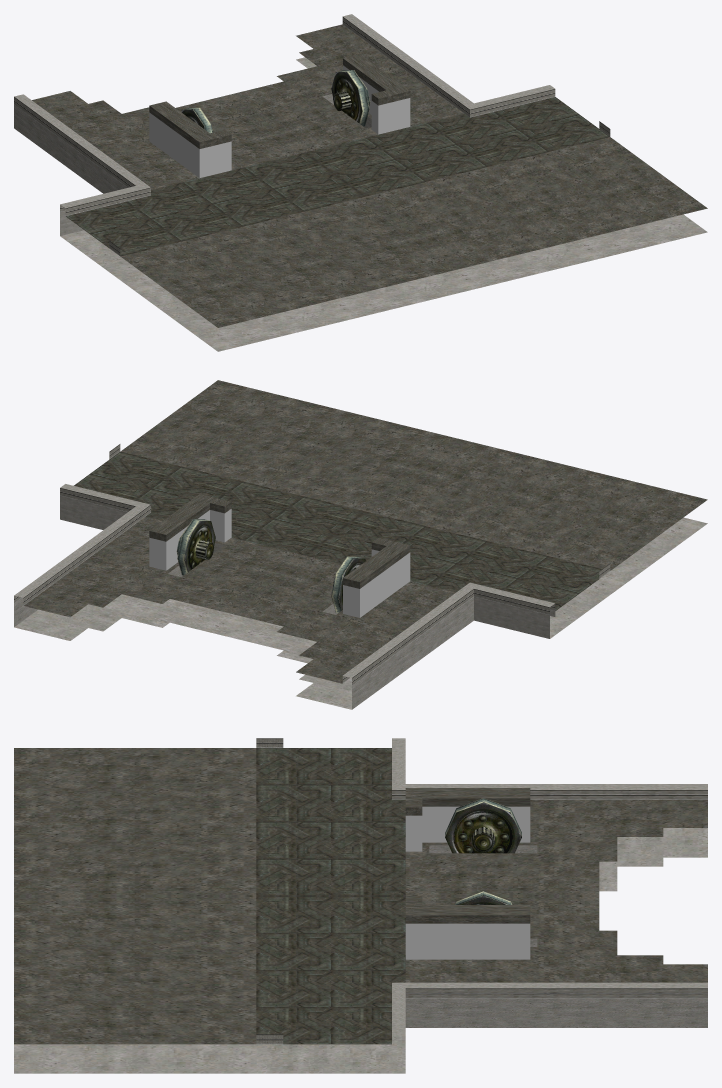
The model's file is DWARF_PALACE_FORGE_STAIRSC01.obj.
The picture shows the model from 3 angles, top to bottom: view 1: azimuth 30°, elevation 25°; view 2: azimuth 150°, elevation 25°; view 3: azimuth 270°, elevation 25°; orthographic projection. The views are drawn at different scales.
Parts seen in each view (by area): view 1: forge_stairsC01; view 2: forge_stairsC01; view 3: forge_stairsC01.
Part boxes in pixels (box(x1,y1,x2,y2)): forge_stairsC01: box(14, 14, 707, 351); forge_stairsC01: box(14, 380, 707, 709); forge_stairsC01: box(14, 738, 707, 1073).
Size of the model in its own units: 2580 by 320 by 2554.
